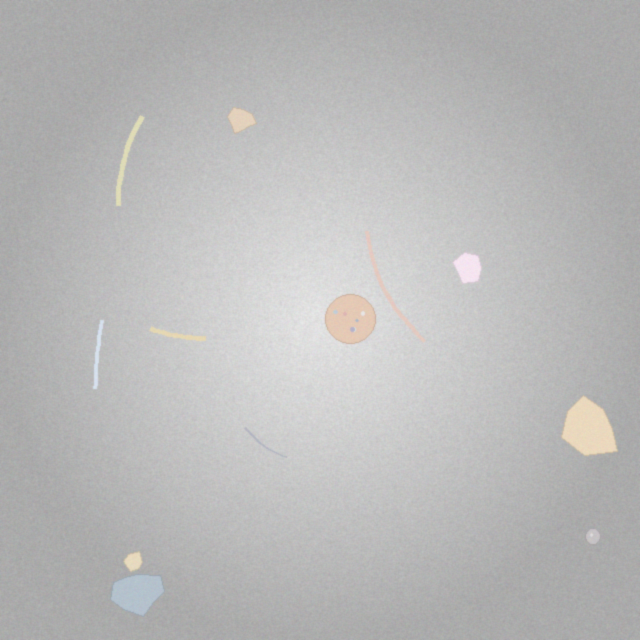fiber: (362, 227, 429, 346), (113, 111, 148, 211), (243, 425, 288, 459), (145, 324, 211, 344), (91, 317, 106, 393)
foam: (326, 294, 375, 344)
fragment: (561, 396, 618, 455), (111, 575, 164, 617), (453, 252, 481, 284), (227, 107, 257, 133), (123, 551, 142, 572)
pellet: (585, 529, 601, 544)
